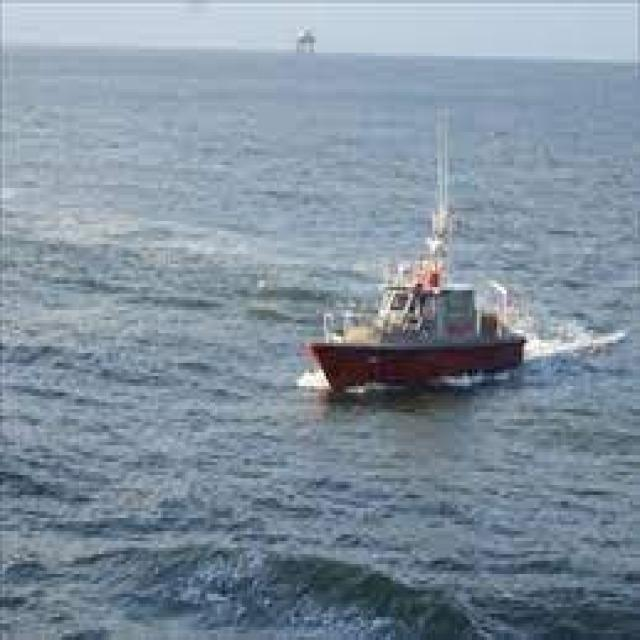houseboat: (300, 200, 526, 400)
